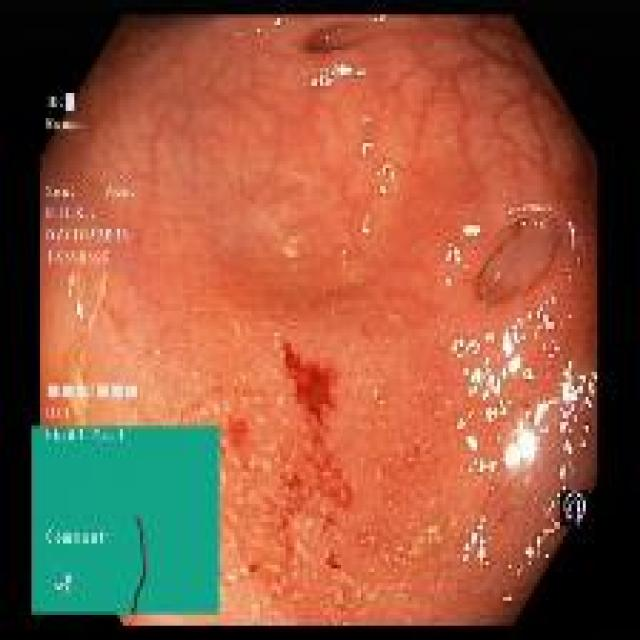ulcerative-colitis: (40, 17, 599, 624)
